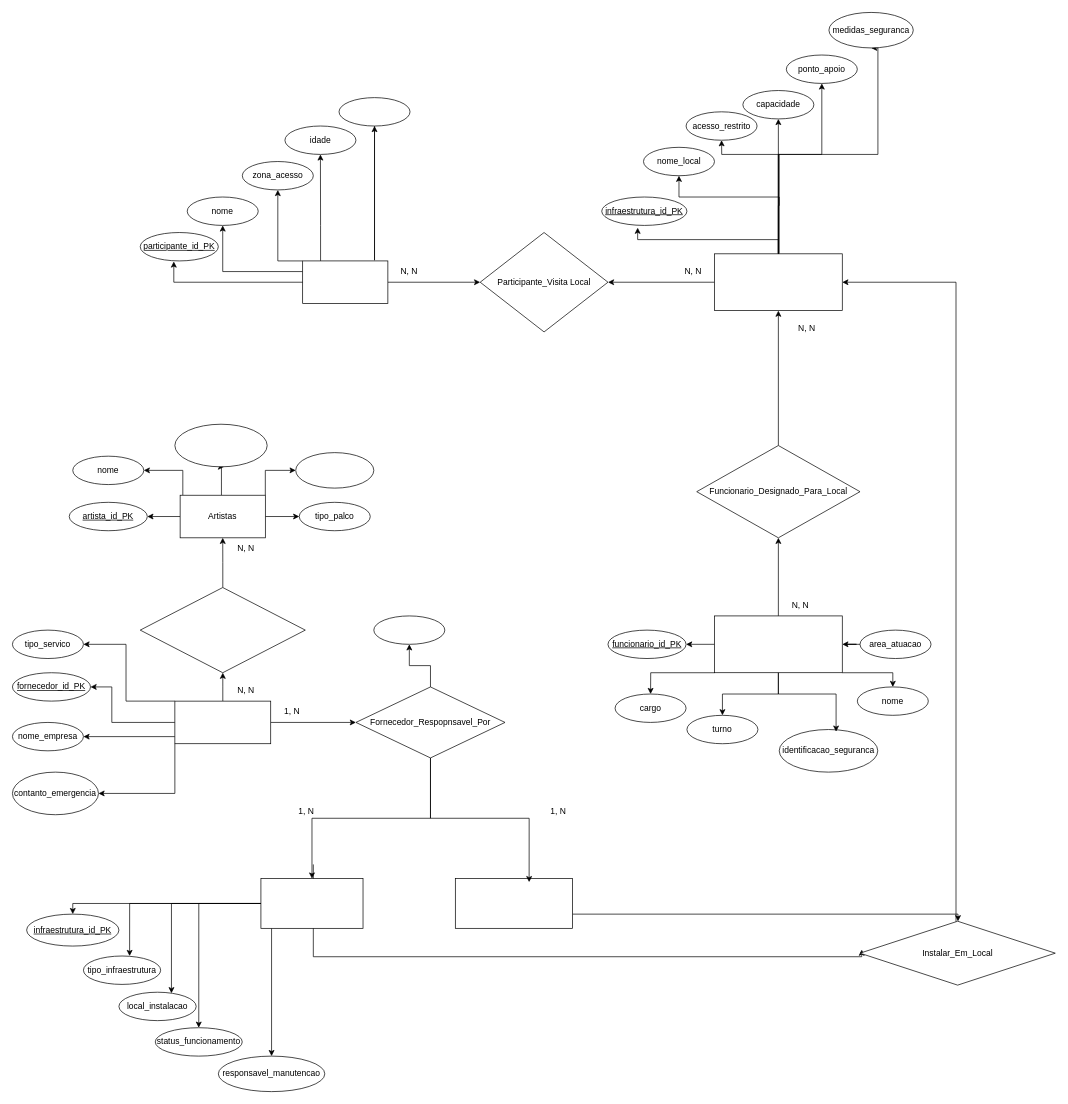
Some shapes in this 1068 by 1104 pixel diagram are drawn without their labels. The shapes that lost their labels are listed below. From the top down, each one's box as (x1, y1, x2, y2) in pixels, then its label:
(338, 97, 410, 126): tipo_ingresso
(302, 260, 388, 304): Participante
(714, 253, 842, 311): Locais
(174, 424, 267, 467): horario_apresentacao
(295, 452, 374, 488): requisitos_tecnicos
(140, 587, 305, 673): Artista_Suportado_Por_Fornecedor
(373, 615, 445, 644): data_hora
(714, 615, 842, 673): Funcionários/voluntario
(174, 700, 271, 744): Fornecedores
(260, 878, 363, 928): Infraestrutura
(455, 878, 572, 928): Software
